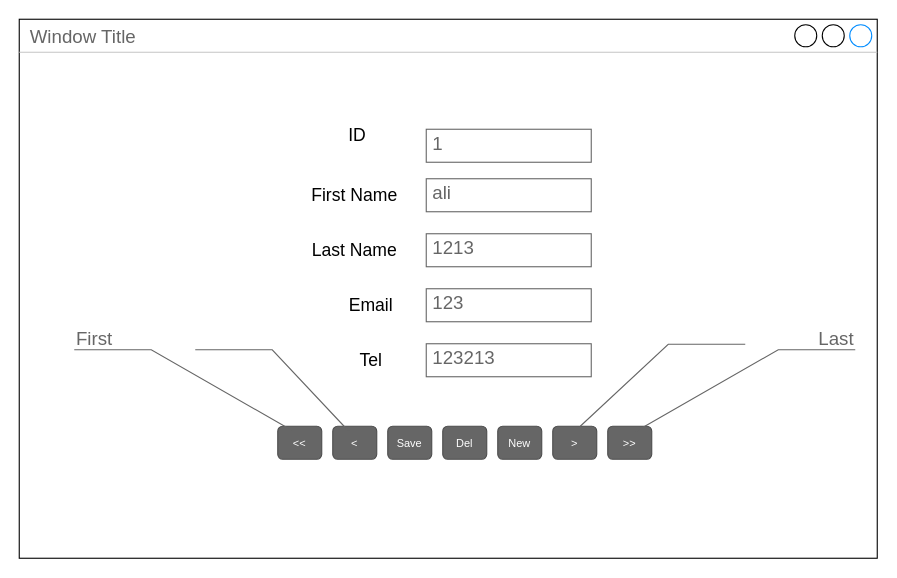
This 897x578 diagram has some shape labels left out. Each missing label, with the centre of its shape:
Next: [662,370]
Prev: [271,376]
